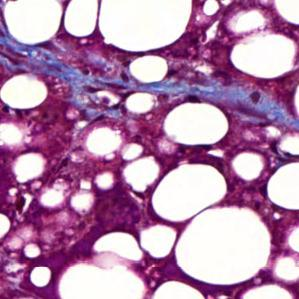steatosis: (97, 0, 192, 51), (151, 162, 227, 224), (267, 161, 299, 214), (64, 0, 97, 38), (130, 55, 167, 85), (274, 0, 299, 28), (30, 264, 52, 289)
